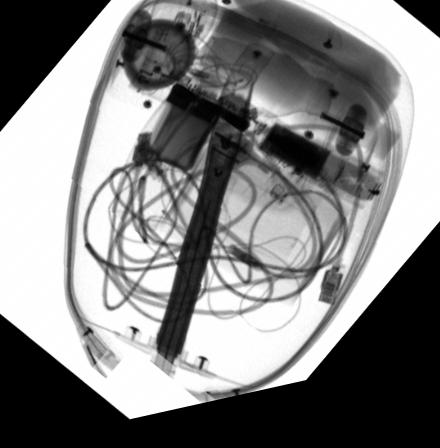Baton: (128, 72, 383, 216)
